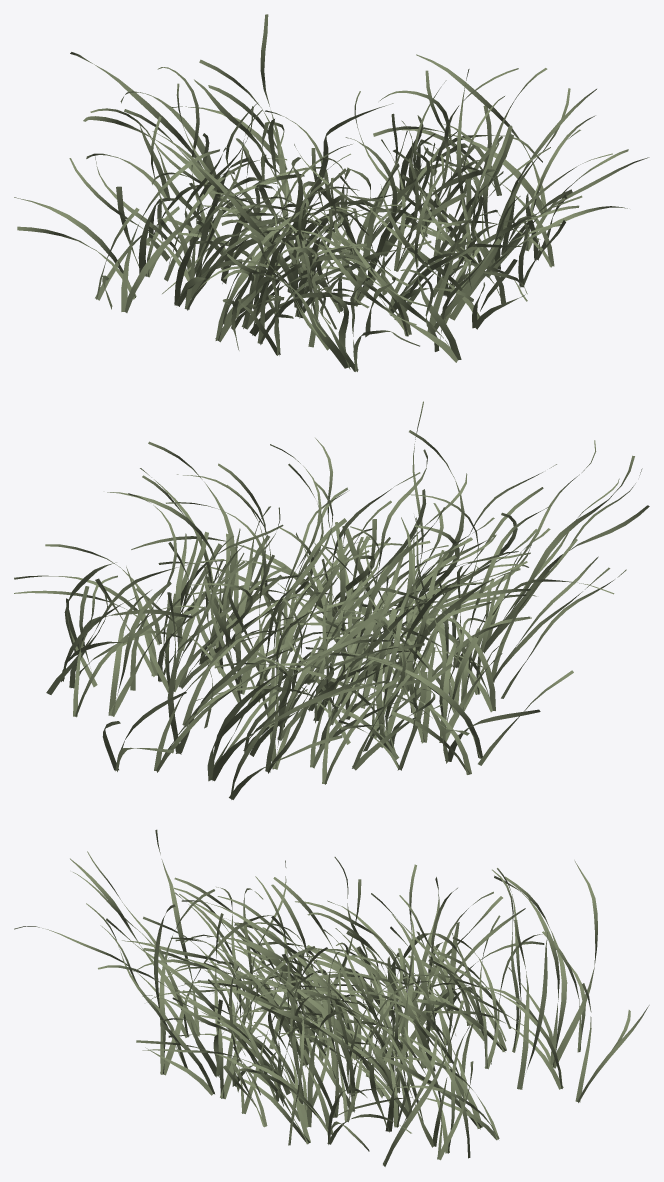
File: GRASS_VARIANT1.fbx
3 renders of one model, top to bottom at view 1: azimuth 30°, elevation 25°; view 2: azimuth 150°, elevation 25°; view 3: azimuth 270°, elevation 25°, orthographic. The views are drawn at different scales.
Visible parts, largest first — view 1: grassWindWide1Main; view 2: grassWindWide1Main; view 3: grassWindWide1Main.
Boxes of the visible parts, x1,y1,x2,y2 form: grassWindWide1Main: [14, 14, 649, 371]; grassWindWide1Main: [14, 401, 649, 799]; grassWindWide1Main: [14, 829, 649, 1166].
Size of the model in its own units: 3.09 by 1.05 by 3.4.
